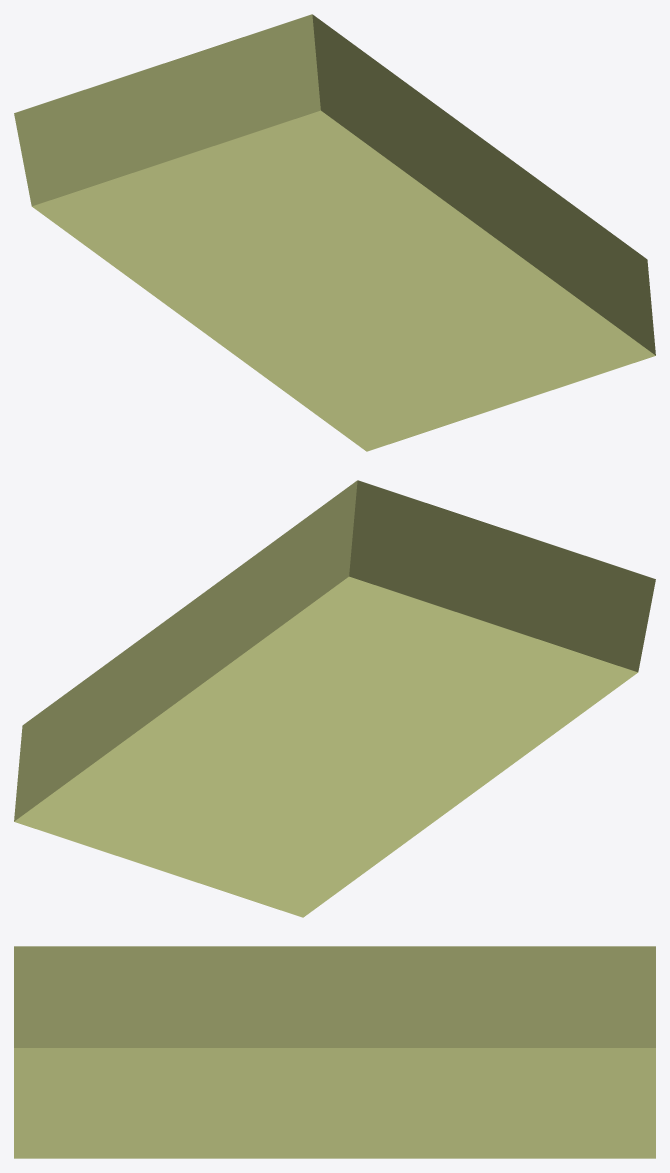
3 renders of one model, top to bottom at view 1: azimuth 30°, elevation 25°; view 2: azimuth 150°, elevation 25°; view 3: azimuth 270°, elevation 25°, orthographic. The views are drawn at different scales.
Parts seen in each view (by area): view 1: 0_2_3_3_3_1_0_2_3_3_1_3; view 2: 0_2_3_3_3_1_0_2_3_3_1_3; view 3: 0_2_3_3_3_1_0_2_3_3_1_3.
Part boxes in pixels (x1,y1,x2,y2): 0_2_3_3_3_1_0_2_3_3_1_3: (14,14,655,451); 0_2_3_3_3_1_0_2_3_3_1_3: (14,480,655,917); 0_2_3_3_3_1_0_2_3_3_1_3: (14,946,655,1158).
Bounding box in the file's own units: 4.76 × 1.83 × 9.
